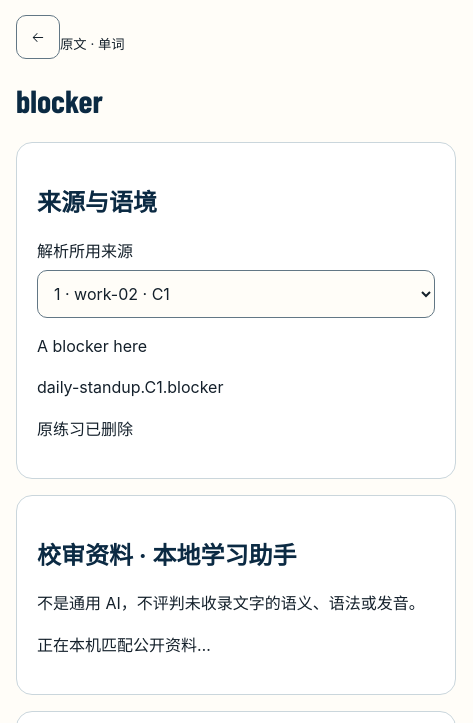
Test case: opens through real feature/hook/repository, switches visible context, ignores stale analysis and keeps saved source after deletion
This screenshot has width=473, height=723.
Expected: the heading "blocker" is shown, [16,81,103,119]
Expected: the text "原练习已删除" is shown, [37,419,133,439]
Select "2 · 手动或旧记录 · 等级未保存" in the dropdown labelled "解析所用来源": point(236, 294) [37,270,435,318]
(page scrolled)
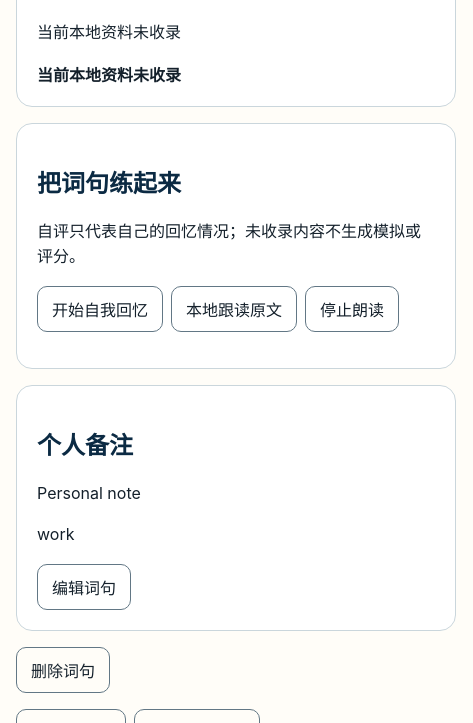
Click the button "编辑词句": point(84, 587) [37,564,131,610]
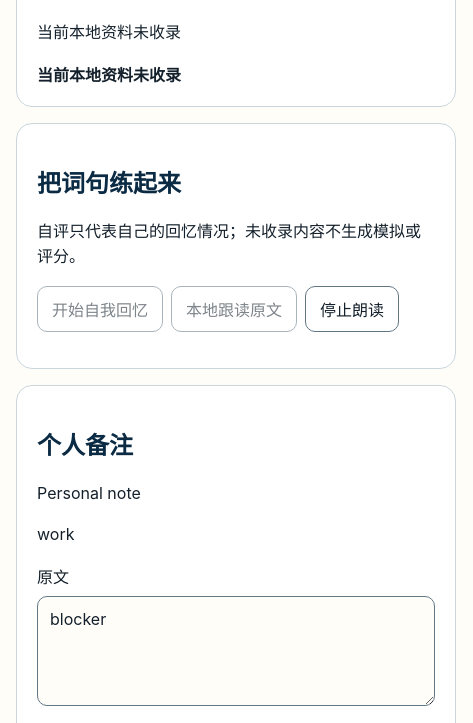
Replace the text in the text box labelled "原文" with "Unlisted new expression": point(236, 651) [37,596,435,706]
(page scrolled)
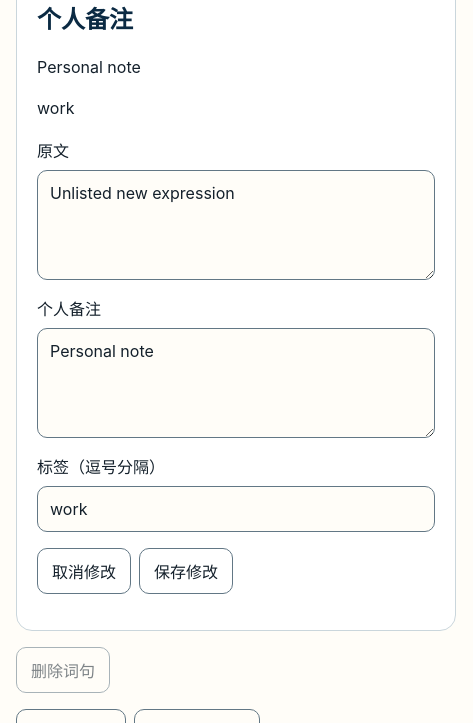
Click the button "保存修改": point(186, 571) [139,548,233,594]
(page scrolled)
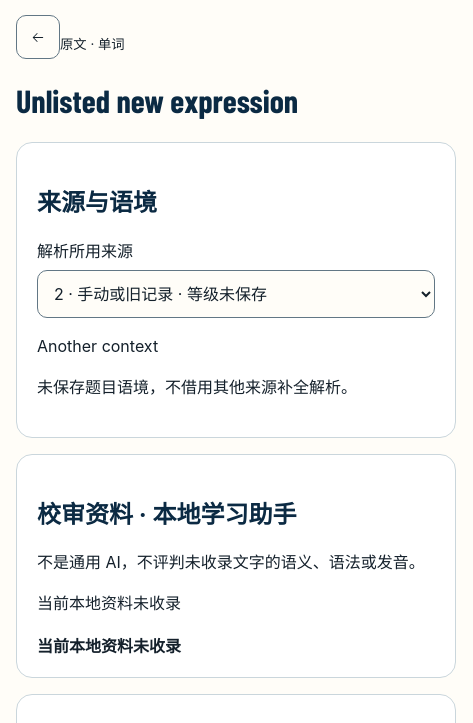
Now the heading "Unlisted new expression" is shown, box [16,81,298,119]
